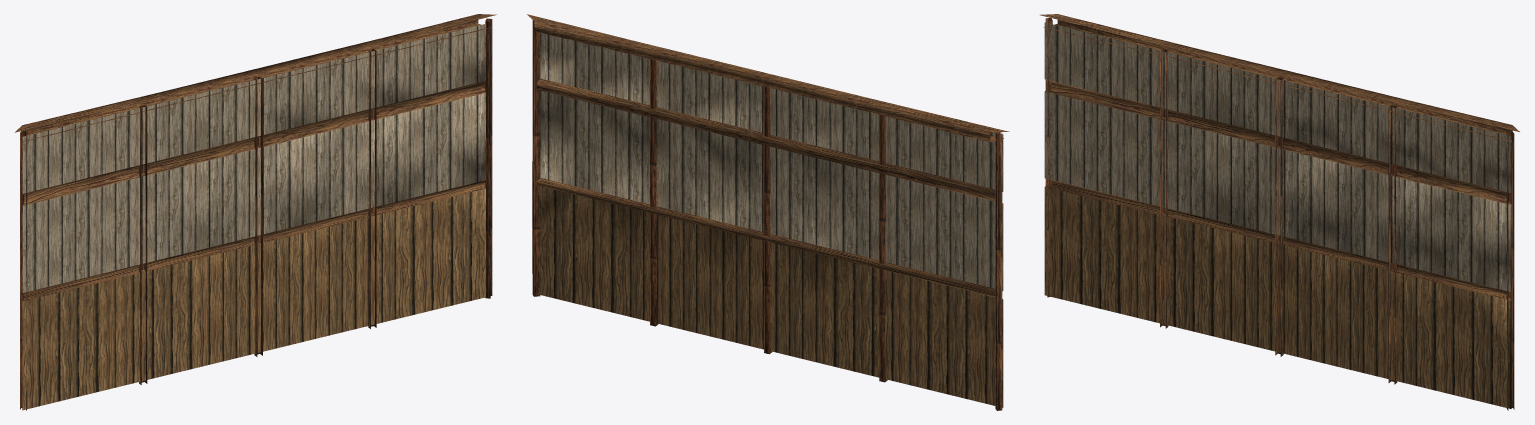
Rendered from LAKETOWN_WAREHOUSE2_PS_WH2_SIDEWALL99848__GX.fbx.
3 views of the same model, side by side, from view 1: azimuth 30°, elevation 25°; view 2: azimuth 150°, elevation 25°; view 3: azimuth 330°, elevation 25° (orthographic).
Visible parts, largest first — view 1: LAKETOWN_WAREHOUSE2_PS_WH2_SIDEWALL99848__GX; view 2: LAKETOWN_WAREHOUSE2_PS_WH2_SIDEWALL99848__GX; view 3: LAKETOWN_WAREHOUSE2_PS_WH2_SIDEWALL99848__GX.
Boxes of the visible parts, x1,y1,x2,y2 form: LAKETOWN_WAREHOUSE2_PS_WH2_SIDEWALL99848__GX: (15,14,496,410); LAKETOWN_WAREHOUSE2_PS_WH2_SIDEWALL99848__GX: (527,14,1009,410); LAKETOWN_WAREHOUSE2_PS_WH2_SIDEWALL99848__GX: (1040,14,1519,410).
Bounding box in the file's own units: 205352 × 114126 × 6247.
Materials: 5 (5 with a texture image).
